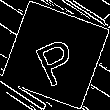P_NW: (28, 24, 82, 86)
